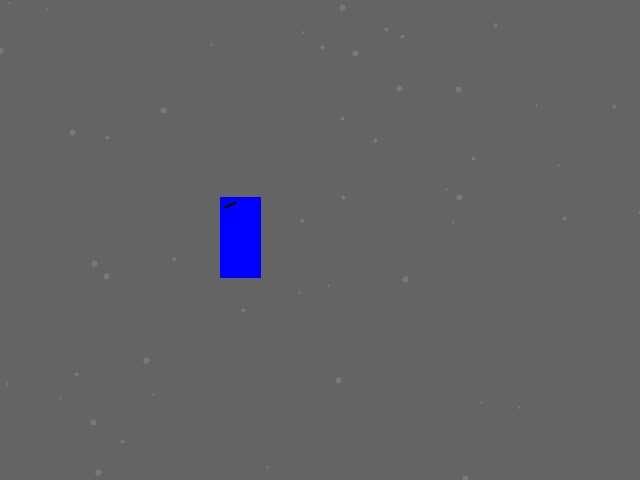motorcycle: (220, 197, 260, 277)
